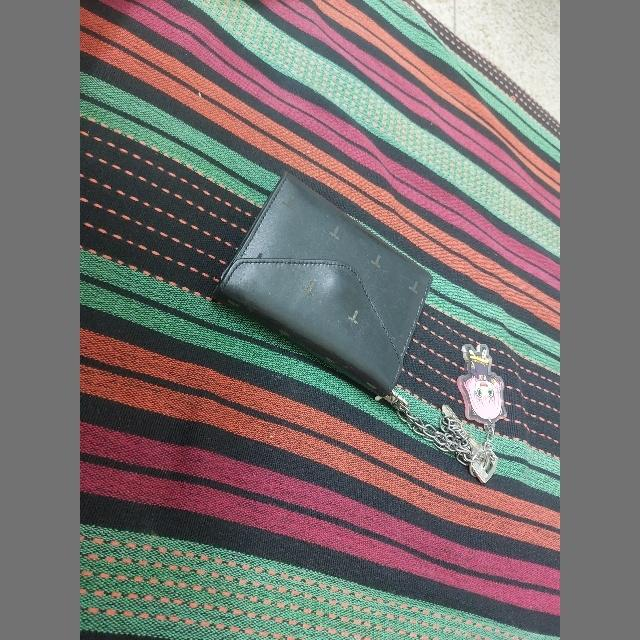Wallet: (214, 170, 433, 400)
